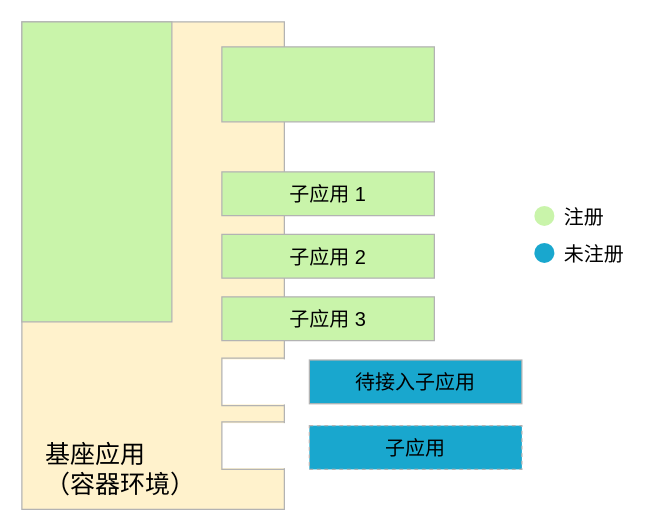
Image size: 646x531. Some labels were removed from this diagram. Here are the shapes that lost their labels. From the top down, the centre of each, then its label:
At (327,84): "公共模块".
At (96,171): "依赖".
